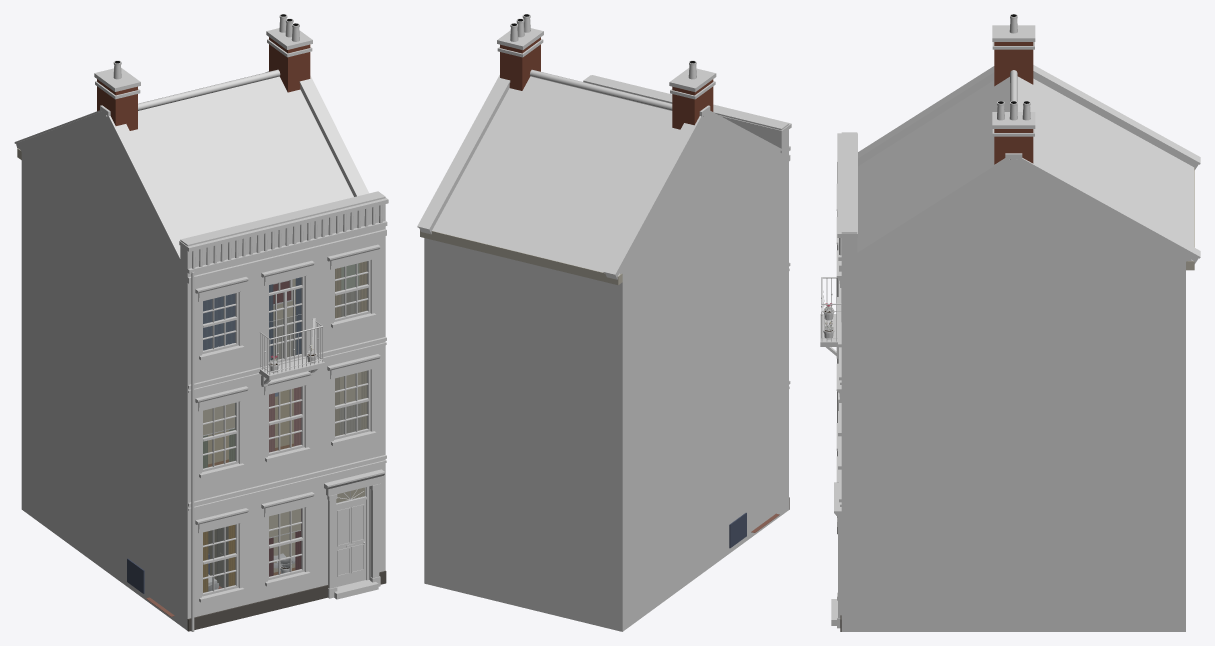
The model's file is LibraryRow_Neighbor2.glb.
The picture shows the model from 3 angles, left to right: view 1: azimuth 30°, elevation 25°; view 2: azimuth 150°, elevation 25°; view 3: azimuth 270°, elevation 25°; orthographic projection. The views are drawn at different scales.
Visible parts, largest first — view 1: LibraryRow_Neighbor2; view 2: LibraryRow_Neighbor2; view 3: LibraryRow_Neighbor2.
Boxes of the visible parts, box(x1,y1,x2,y2) form: LibraryRow_Neighbor2: box(14, 14, 388, 631); LibraryRow_Neighbor2: box(417, 14, 791, 631); LibraryRow_Neighbor2: box(820, 14, 1200, 631).
Size of what is drawn, in the model's own units: 5.63 by 13.41 by 8.84.
